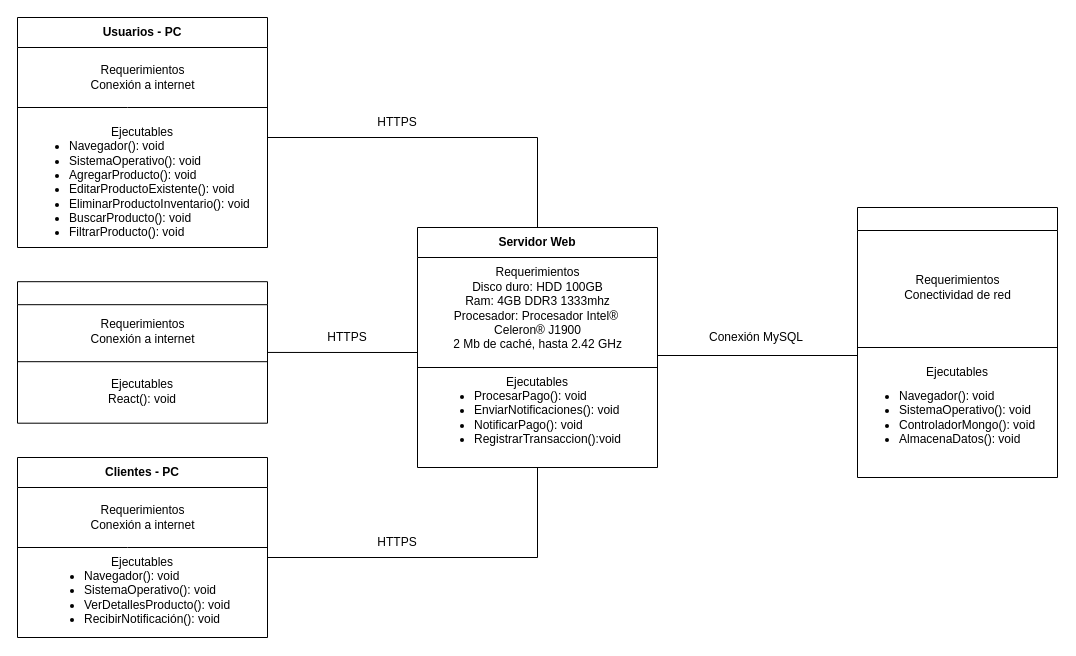
This 1076x656 diagram has some shape labels left out. Here are the shapes that lost their labels. From the top down, the box of each, then its label:
(16, 281, 268, 423): Usuarios - Dispositivo Móvil
(856, 206, 1058, 478): Base de Datos
